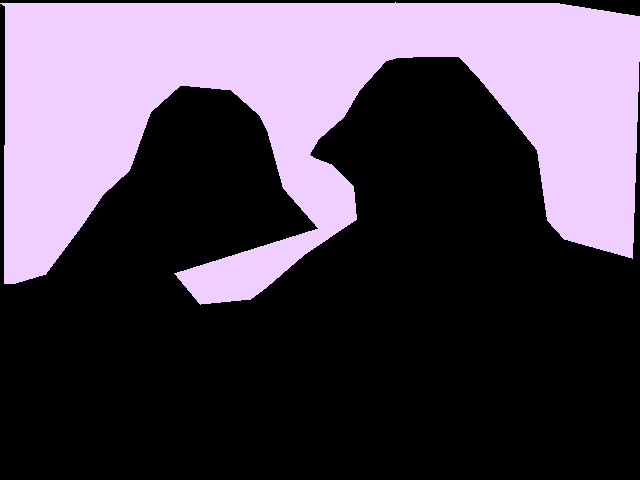Train: (0, 2, 640, 304)
